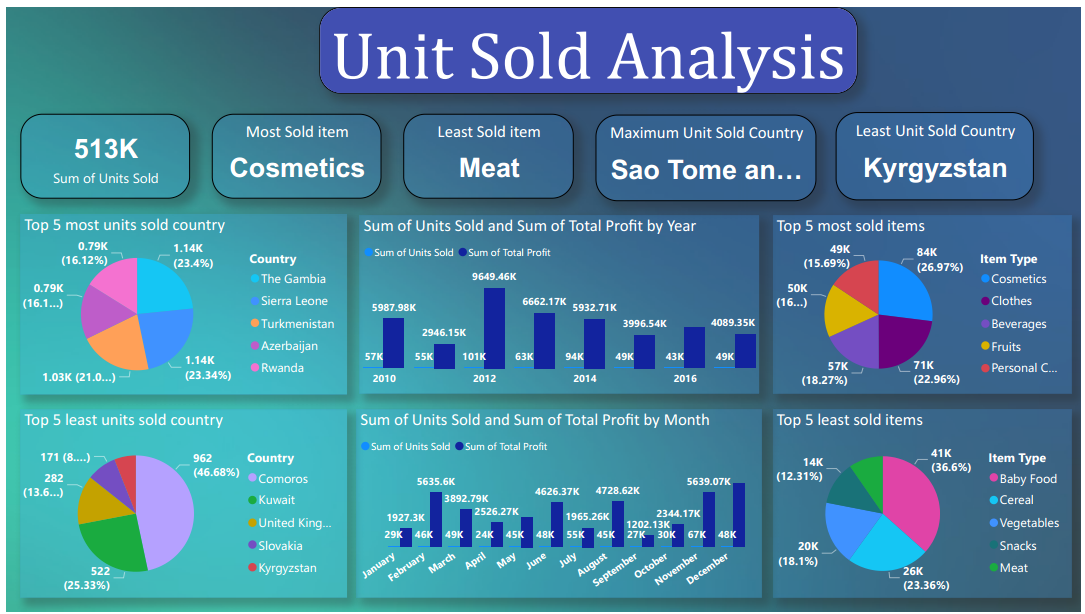

Layout of this report page (visuals, bound fields, positions):
{"tool":"powerbi","page":{"name":"Units Sold","canvas":[1280,720],"ordinal":2},"visuals":[{"type":"textbox","title":"Unit Sold Analysis","box":[373,0,641.4,103.2],"z":0},{"type":"pieChart","title":"Top 5 most units sold country","fields":{"Category":["Amazone_sales_data.Country"],"Y":["Sum(Amazone_sales_data.Unit Cost)"]},"box":[16.5,246.4,389.5,214.7],"z":1000},{"type":"pieChart","title":"Top 5 least units sold country","fields":{"Category":["Amazone_sales_data.Country"],"Y":["Sum(Amazone_sales_data.Units Sold)"]},"box":[16.5,479,389.5,224.3],"z":2000},{"type":"pieChart","title":"Top 5 most sold items","fields":{"Category":["Amazone_sales_data.Item Type"],"Y":["Sum(Amazone_sales_data.Units Sold)"]},"box":[912.5,247.7,356.5,212],"z":3000},{"type":"pieChart","title":"Top 5 least sold items","fields":{"Category":["Amazone_sales_data.Item Type"],"Y":["Sum(Amazone_sales_data.Units Sold)"]},"box":[912.5,479,356.5,224.3],"z":4000},{"type":"card","fields":{"Values":["Sum(Amazone_sales_data.Units Sold)"]},"box":[16.5,126.6,202.3,101.8],"z":5000},{"type":"clusteredColumnChart","fields":{"Category":["Amazone_sales_data.Ship Date.Variation.Date Hierarchy.Month"],"Y":["Sum(Amazone_sales_data.Units Sold)","Sum(Amazone_sales_data.Total Profit)"]},"box":[417,479,483.1,224.3],"z":6000},{"type":"clusteredColumnChart","fields":{"Category":["Amazone_sales_data.Ship Date.Variation.Date Hierarchy.Year"],"Y":["Sum(Amazone_sales_data.Units Sold)","Sum(Amazone_sales_data.Total Profit)"]},"box":[421.2,247.7,476.2,212],"z":7000},{"type":"card","title":"Most Sold item","fields":{"Values":["Min(Amazone_sales_data.Item Type)"]},"box":[245,126.6,202.3,101.8],"z":8000},{"type":"card","title":"Least Sold item","fields":{"Values":["Min(Amazone_sales_data.Item Type)"]},"box":[473.5,126.6,202.3,101.8],"z":9000},{"type":"card","title":"Maximum Unit Sold Country","fields":{"Values":["Min(Amazone_sales_data.Country)"]},"box":[701.9,128,262.9,103.2],"z":10000},{"type":"card","title":"Least Unit Sold Country","fields":{"Values":["Min(Amazone_sales_data.Country)"]},"box":[988.2,125.2,235.4,104.6],"z":11000}]}

Visuals, with their boxes in screenshot pixels (x1, y1, x2, y2), scaled from the page's 1280x720 canvas onto the 1085x614 screenshot:
"Unit Sold Analysis" textbox: left=316, top=0, right=860, bottom=88
"Top 5 most units sold country" pieChart: left=14, top=210, right=344, bottom=393
"Top 5 least units sold country" pieChart: left=14, top=408, right=344, bottom=600
"Top 5 most sold items" pieChart: left=773, top=211, right=1076, bottom=392
"Top 5 least sold items" pieChart: left=773, top=408, right=1076, bottom=600
card - Sum(Amazone_sales_data.Units Sold): left=14, top=108, right=185, bottom=195
clusteredColumnChart - Amazone_sales_data.Ship Date.Variation.Date Hierarchy.Month x Sum(Amazone_sales_data.Units Sold): left=353, top=408, right=763, bottom=600
clusteredColumnChart - Amazone_sales_data.Ship Date.Variation.Date Hierarchy.Year x Sum(Amazone_sales_data.Units Sold): left=357, top=211, right=761, bottom=392
"Most Sold item" card: left=208, top=108, right=379, bottom=195
"Least Sold item" card: left=401, top=108, right=573, bottom=195
"Maximum Unit Sold Country" card: left=595, top=109, right=818, bottom=197
"Least Unit Sold Country" card: left=838, top=107, right=1037, bottom=196
